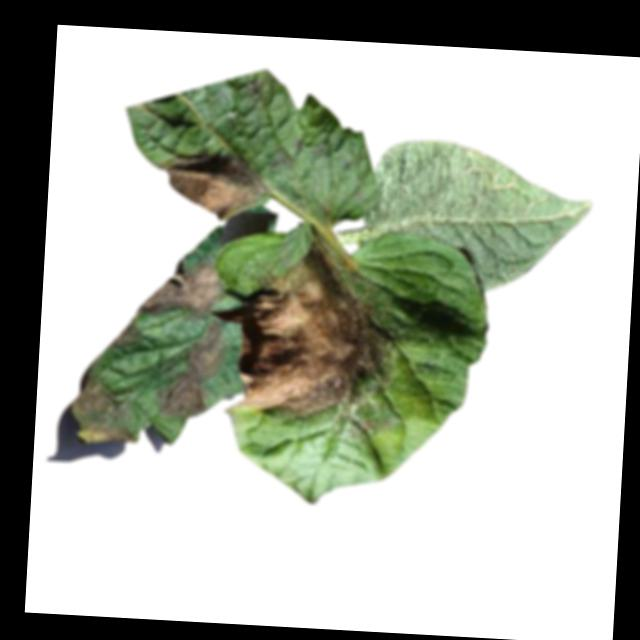Late_blight: (229, 222, 396, 424), (152, 150, 268, 220), (153, 314, 228, 422), (136, 253, 231, 319), (65, 371, 144, 446), (110, 316, 143, 349)
